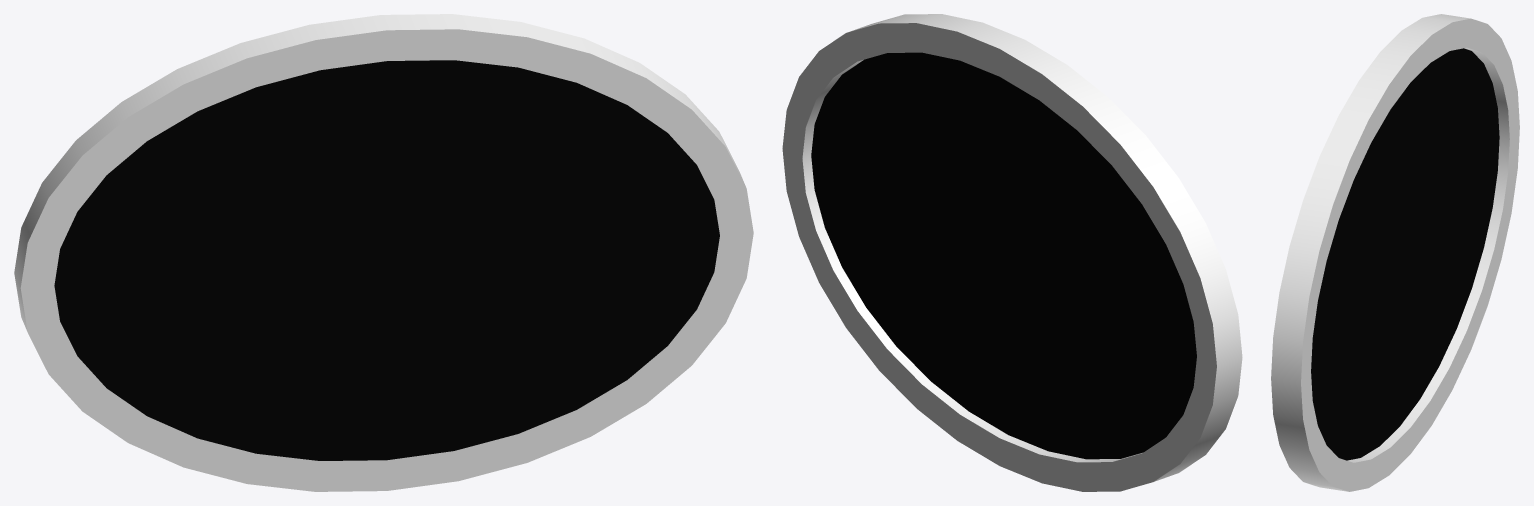
File: Attach_Badge.fbx
3 renders of one model, left to right at view 1: azimuth 30°, elevation 25°; view 2: azimuth 150°, elevation 25°; view 3: azimuth 270°, elevation 25°, orthographic. The views are drawn at different scales.
Parts seen in each view (by area): view 1: Attach_Badge; view 2: Attach_Badge; view 3: Attach_Badge.
Boxes of the visible parts, box(x1,y1,x2,y2) form: Attach_Badge: box(14, 14, 753, 491); Attach_Badge: box(782, 14, 1242, 491); Attach_Badge: box(1271, 14, 1519, 491).
Bounding box in the file's own units: 0.295 × 0.1191 × 0.2104.
